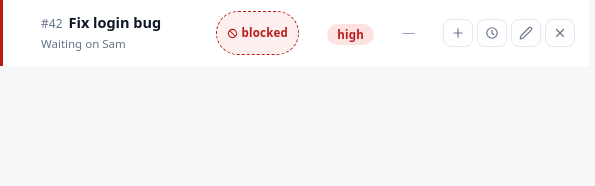
it: TaskListRow › mobile row (#317) › opens the reason editor on a single tap on touch (AC15)
Click the button with aria-label "Blocked reason: Waiting on Sam. Edit".
click(83, 44)  # box [41,35,126,53]
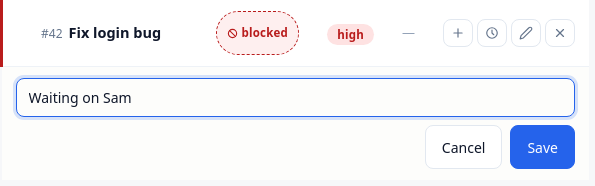
Expected: the field named "Blocked reason, optional" is shown, [16,78,575,117]
